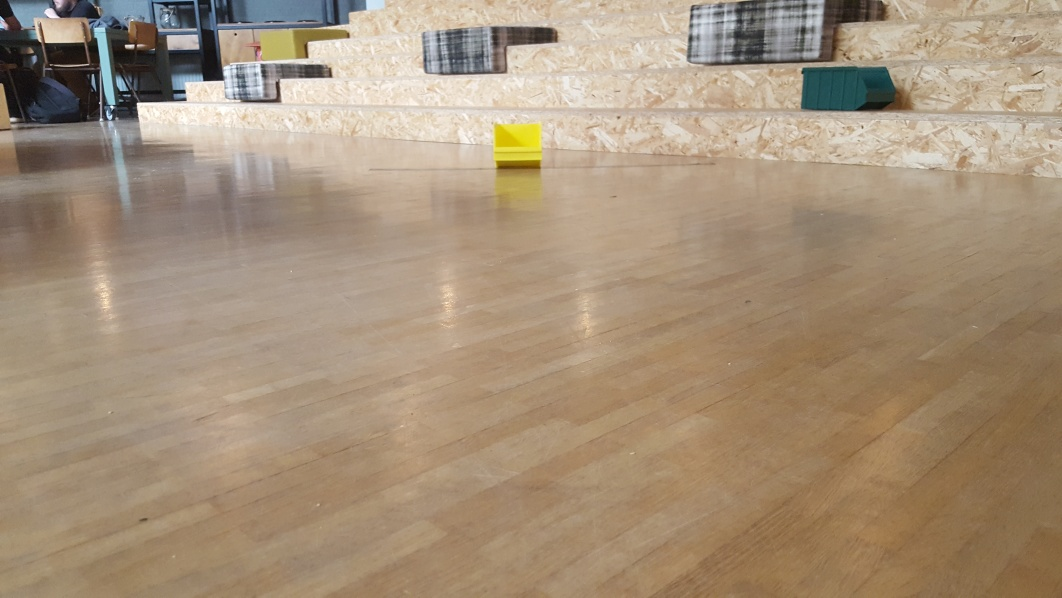tray: (796, 63, 898, 109), (481, 122, 546, 165)
